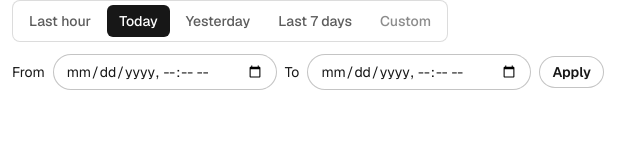
Test case: RangeControls › rejects an inverted or missing window inline
Click the button "Apply".
click(572, 72)  # box [539,56,604,88]
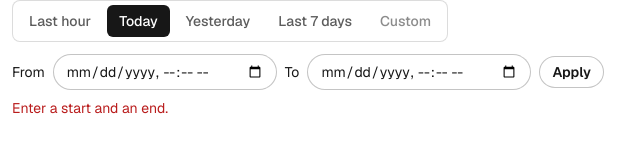
Expected: the message reads "Enter a start and an end.", [12,99,168,117]
Type "2026-09-25T11:00" into the field labelled "From".
click(165, 72); type("2026-09-25T11:00")  # box [53,54,277,90]
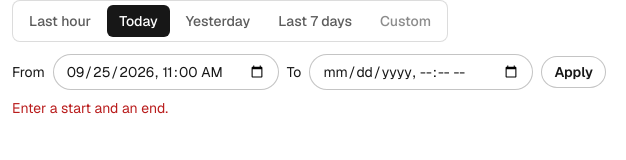
Type "2026-09-25T10:00" into the field labelled "To".
click(421, 72); type("2026-09-25T10:00")  # box [309,54,533,90]
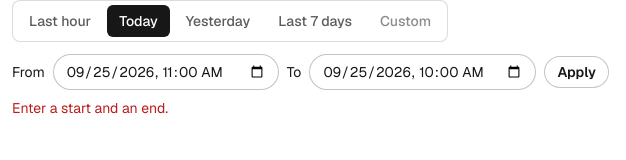
Click the button "Apply".
click(577, 72)  # box [544,56,609,88]
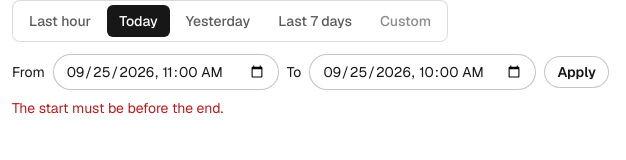
Expected: the message reads "The start must be before the end.", [12,99,223,117]
